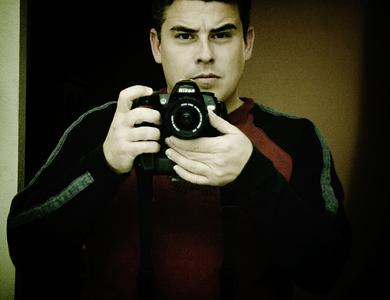person: (7, 2, 347, 299)
